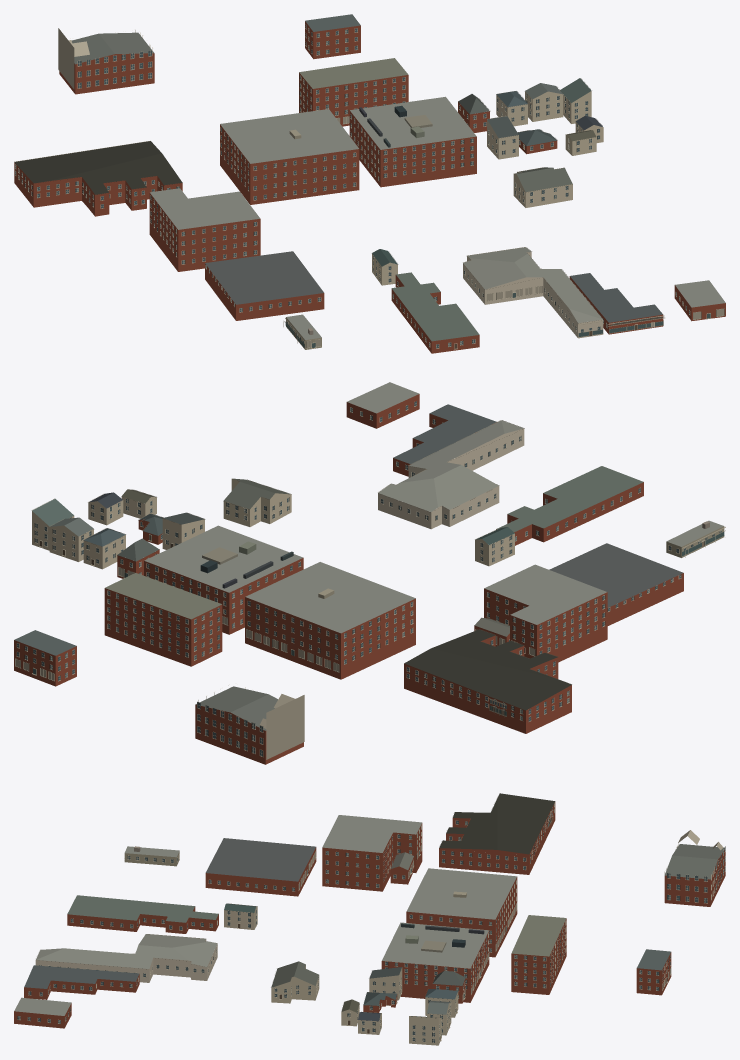
The picture shows the model from 3 angles, top to bottom: view 1: azimuth 30°, elevation 25°; view 2: azimuth 150°, elevation 25°; view 3: azimuth 270°, elevation 25°; orthographic projection. The views are drawn at different scales.
Parts seen in each view (by area): view 1: 0_0_269018238_0, 0_0_269018541_1, 0_0_599497824_38; view 2: 0_0_269018238_0, 0_0_269018541_1, 0_0_599497824_38; view 3: 0_0_269018238_0, 0_0_269018541_1, 0_0_599497824_38, 0_0_790036967_158.
Part boxes in pixels (x1=…): 0_0_269018238_0: x1=14, y1=14, x2=725, y2=353; 0_0_269018541_1: x1=294, y1=91, x2=637, y2=348; 0_0_599497824_38: x1=463, y1=252, x2=603, y2=338; 0_0_269018238_0: x1=14, y1=382, x2=725, y2=764; 0_0_269018541_1: x1=32, y1=478, x2=704, y2=714; 0_0_599497824_38: x1=378, y1=428, x2=524, y2=529; 0_0_269018238_0: x1=14, y1=793, x2=725, y2=1042; 0_0_269018541_1: x1=224, y1=818, x2=551, y2=1045; 0_0_599497824_38: x1=35, y1=939, x2=217, y2=982; 0_0_790036967_158: x1=124, y1=851, x2=179, y2=866.
Size of the model in its own units: 242 by 32.68 by 317.
